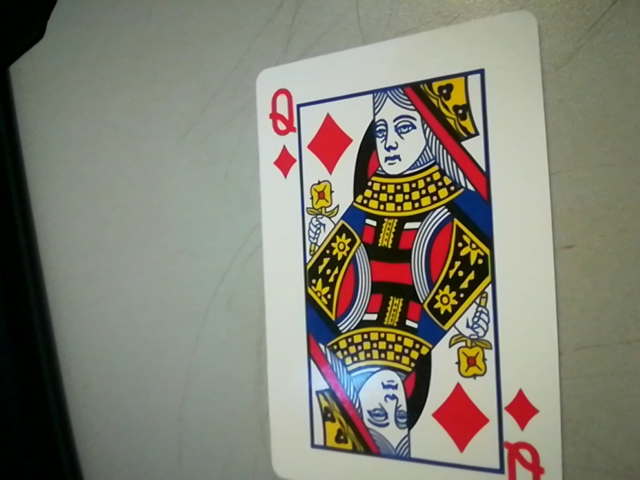fk q: (259, 84, 308, 179)
